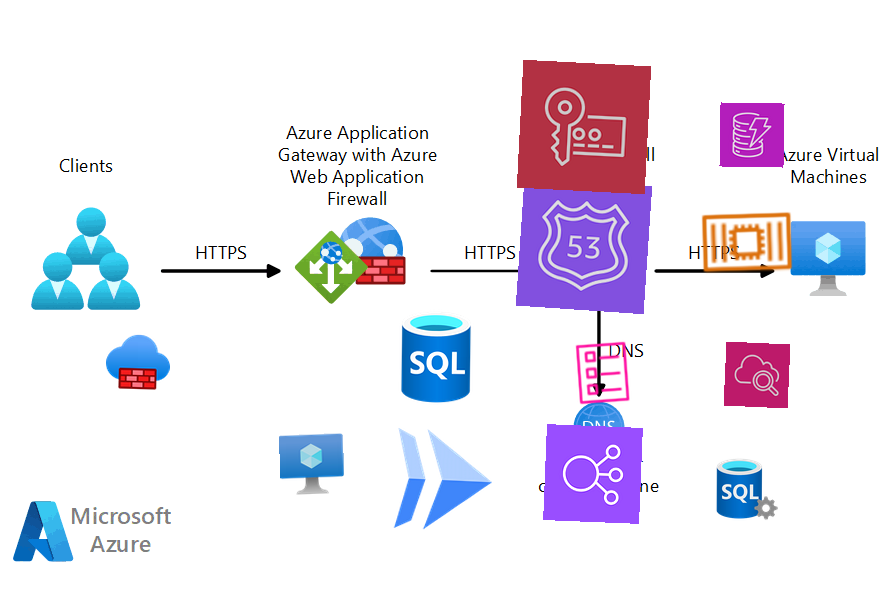aws_amazon_cloudwatch: (723, 341, 791, 409)
aws_amazon_dynamodb: (719, 102, 785, 168)
aws_amazon_route_53: (515, 177, 653, 315)
aws_cloudformation_template: (567, 338, 637, 408)
aws_elastic_container_service_container_2: (697, 192, 797, 292)
aws_elastic_load_balancing: (543, 424, 643, 524)
aws_key_management_service: (516, 59, 652, 195)
azure_firewalls: (105, 329, 171, 395)
azure_sql_database: (387, 308, 485, 406)
azure_sql_server: (714, 456, 780, 522)
azure_virtual_machine: (278, 432, 346, 500)
gcp_cloud_run: (375, 413, 509, 547)
